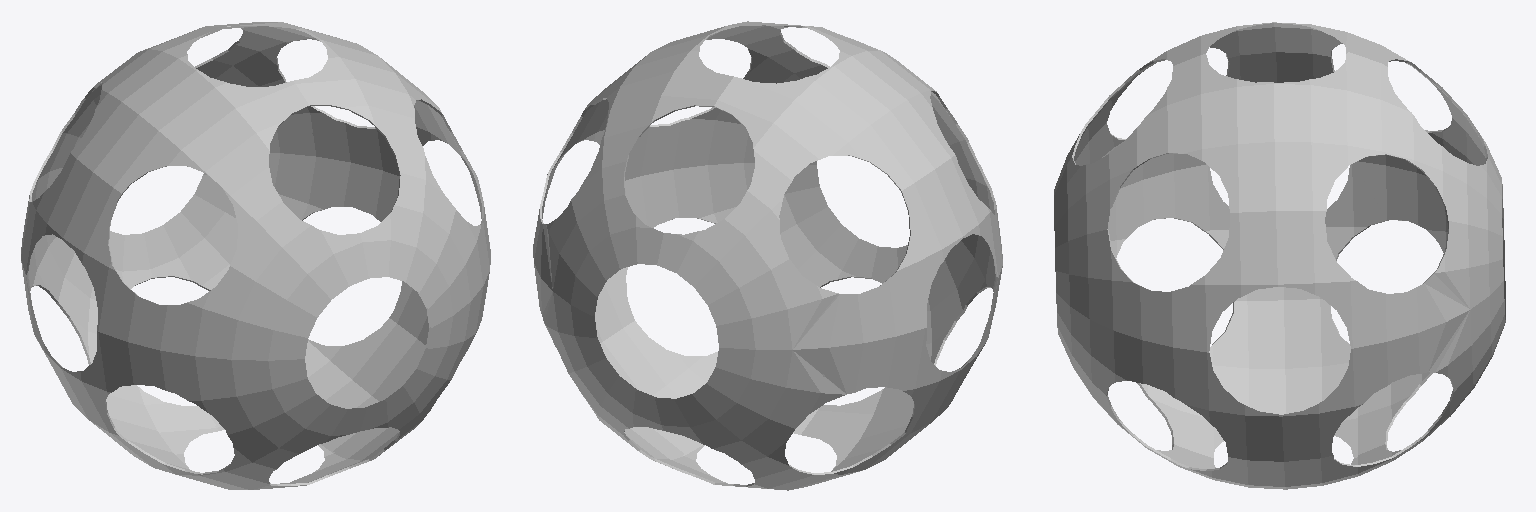
The model's file is Coin_ball.obj.
The picture shows the model from 3 angles: view 1: azimuth 30°, elevation 25°; view 2: azimuth 150°, elevation 25°; view 3: azimuth 270°, elevation 25°; orthographic projection.
Parts seen in each view (by area): view 1: pSphere14; view 2: pSphere14; view 3: pSphere14.
Part boxes in pixels (x1,y1,x2,y2): pSphere14: (21,22,490,489); pSphere14: (533,21,1002,490); pSphere14: (1054,22,1505,489).
Size of the model in its own units: 0.3668 by 0.3682 by 0.3692.